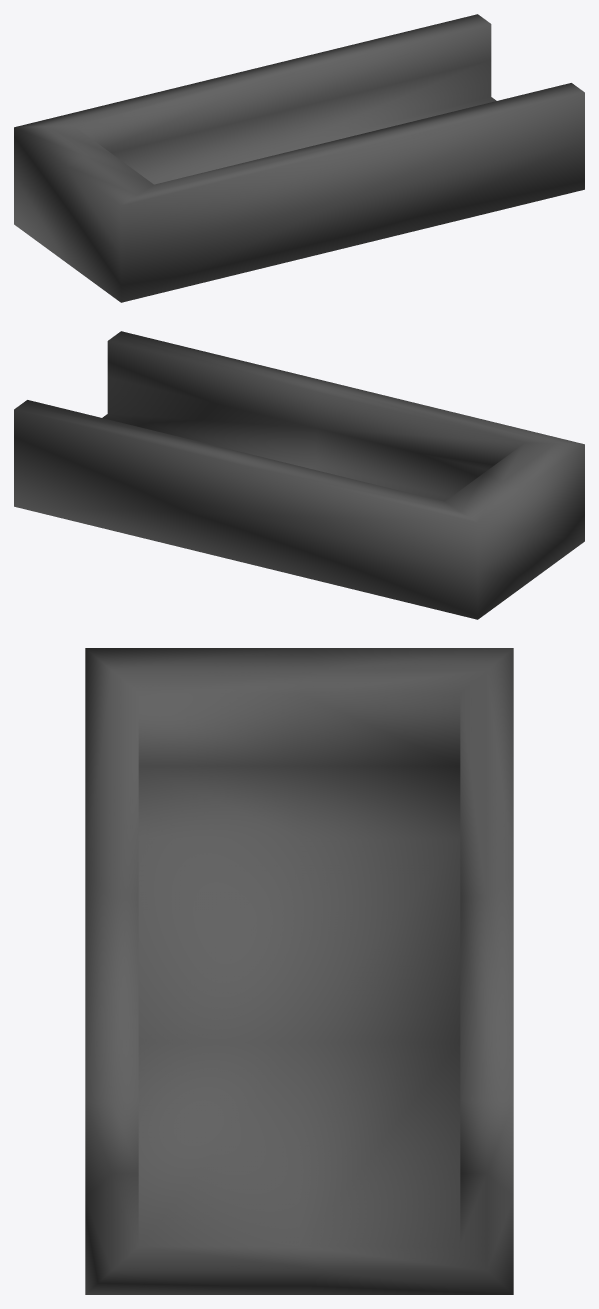
3 renders of one model, top to bottom at view 1: azimuth 30°, elevation 25°; view 2: azimuth 150°, elevation 25°; view 3: azimuth 270°, elevation 25°, orthographic. The views are drawn at different scales.
Visible parts, largest first — view 1: defaultobject; view 2: defaultobject; view 3: defaultobject.
Boxes of the visible parts, <box> form: defaultobject: <box>14,14,584,302</box>; defaultobject: <box>14,331,584,619</box>; defaultobject: <box>85,648,513,1294</box>.
Size of the model in its own units: 0.625 by 0.125 by 0.25.
Materials: 1 (1 with a texture image).
